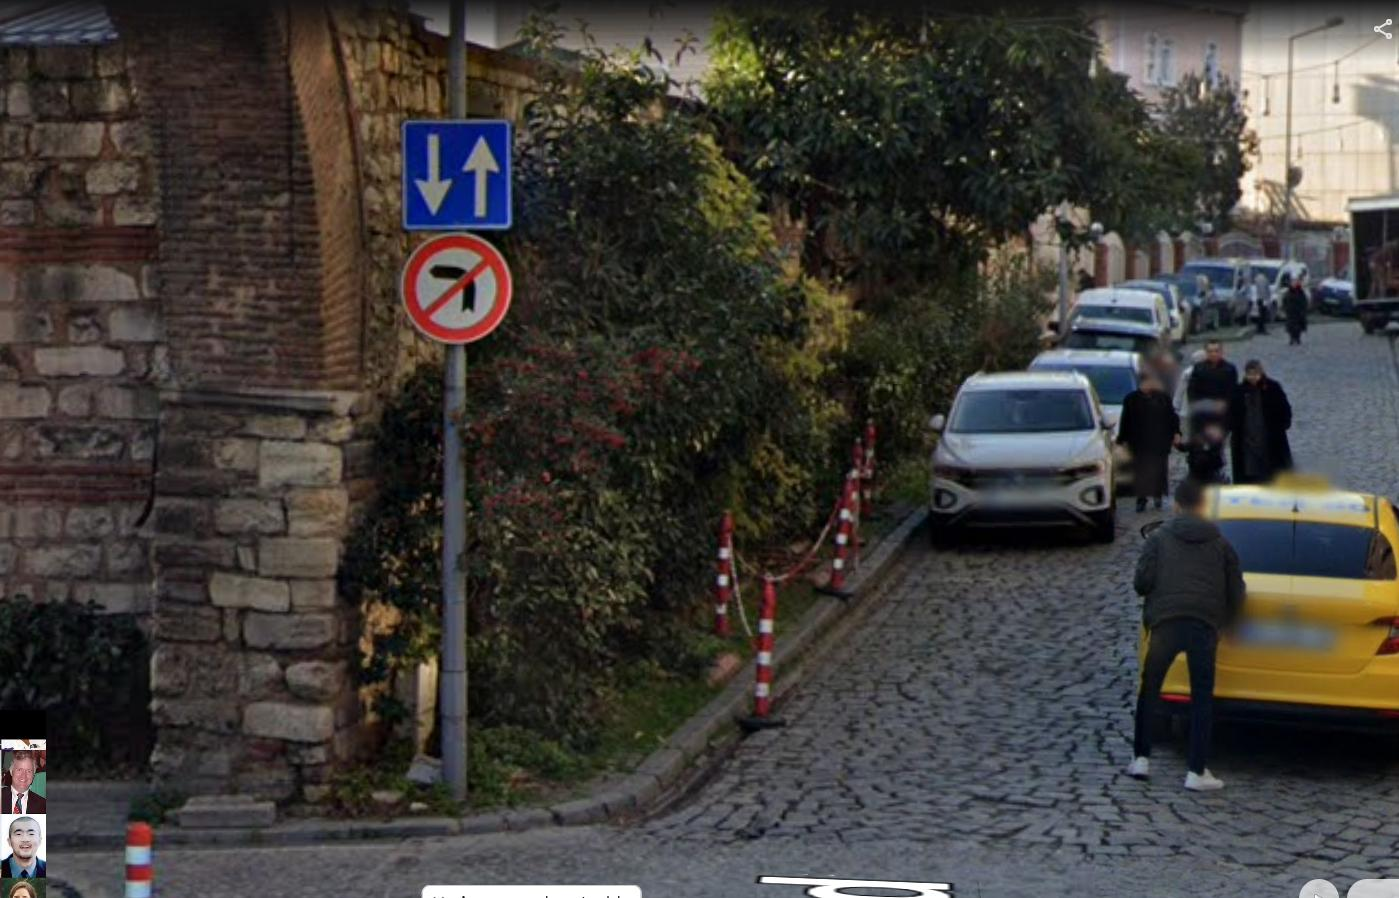leftturnsareforbidden: (404, 237, 509, 329)
